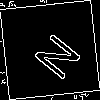N: (25, 25, 83, 82)
